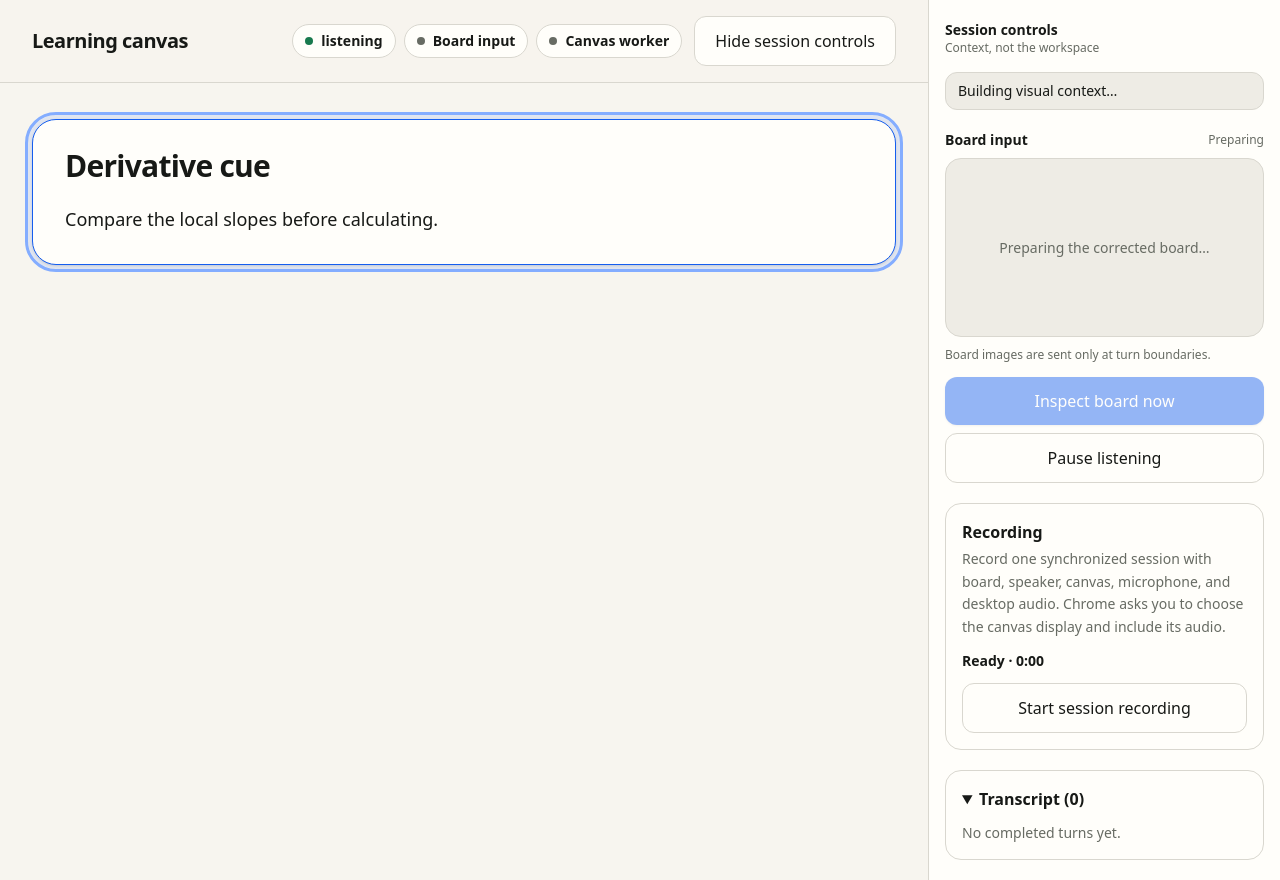
Scenario: LearningWorkspace › makes the learning canvas primary and collapses session controls
Expected: the heading "Derivative cue" is shown, [65, 145, 270, 186]
Expected: the text "Compare the local slopes before calculating." is shown, [65, 207, 438, 231]
Step 1. Click the button "Hide session controls" → (795, 41), box [694, 16, 896, 66]
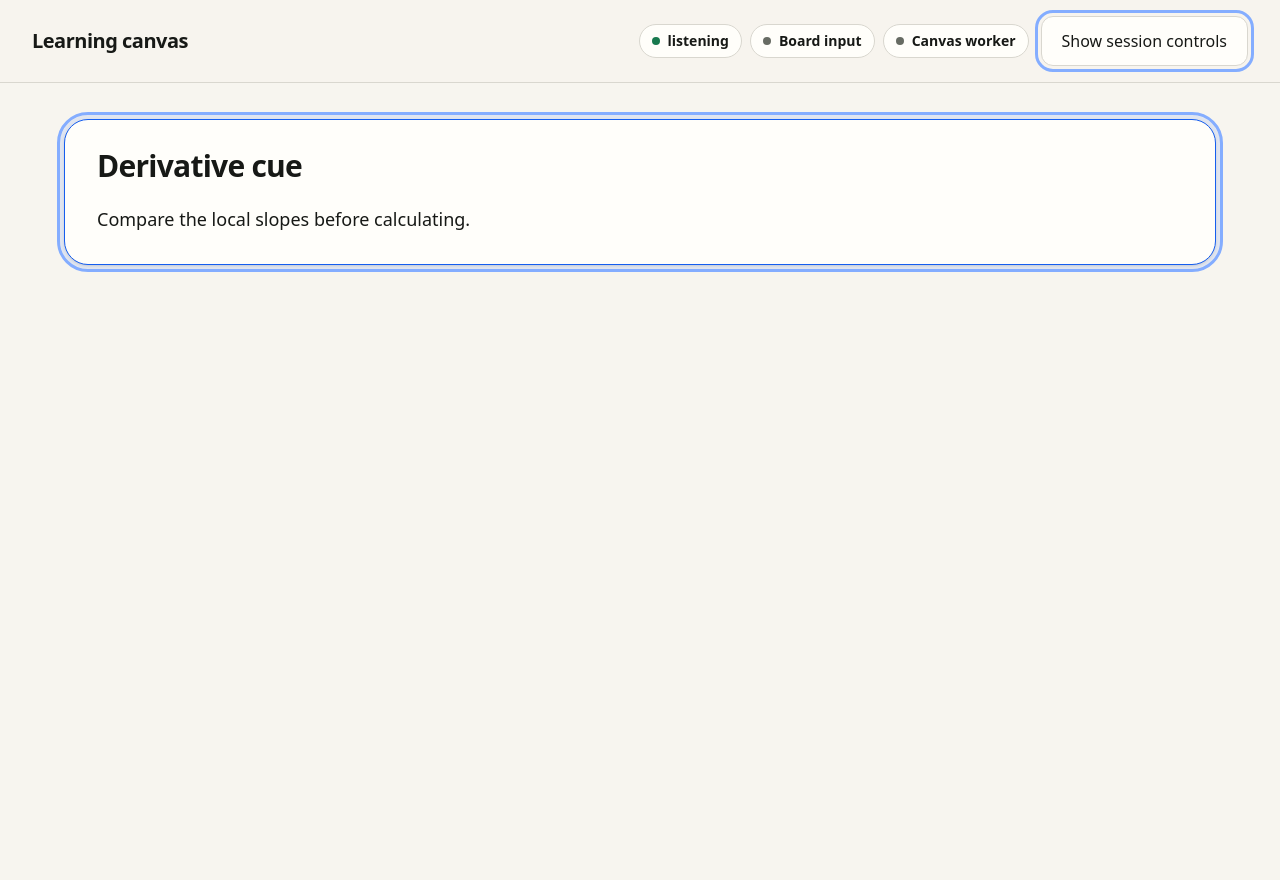
Expected: the button "Inspect board now" is gone
Expected: the button "Show session controls" is shown, [1041, 16, 1248, 66]
